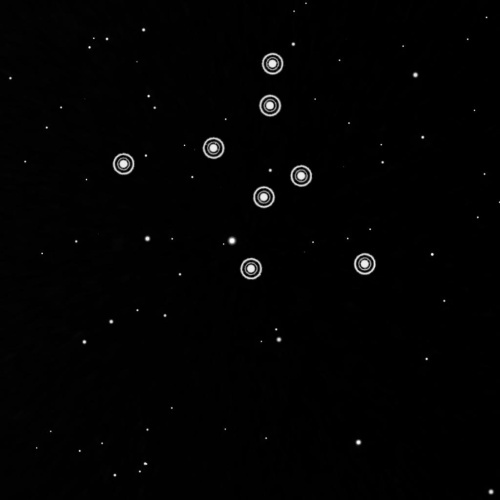hercules: (108, 47, 378, 288)
